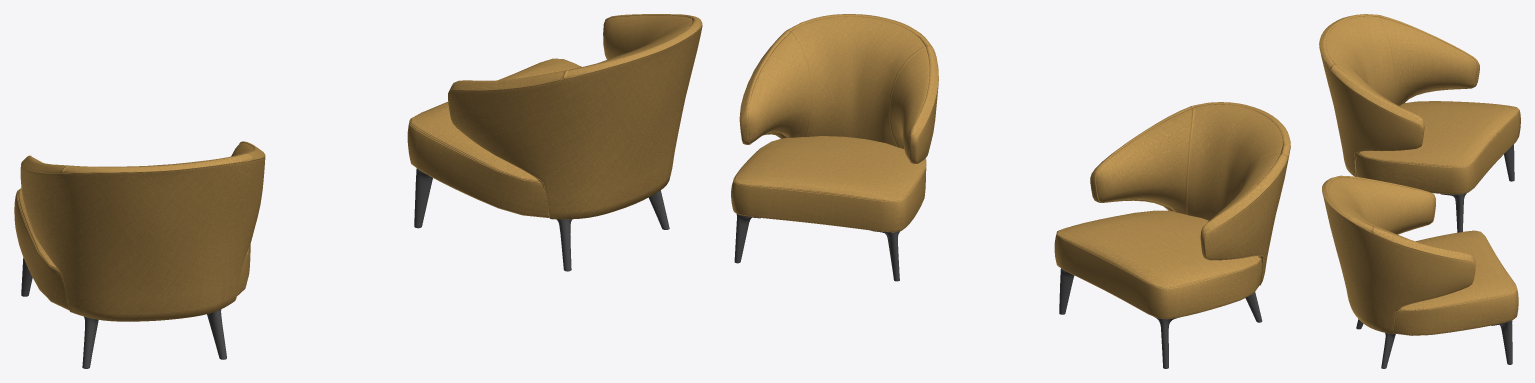
The model's file is Poltrone gialle salotto.glb.
The picture shows the model from 3 angles, left to right: view 1: azimuth 30°, elevation 25°; view 2: azimuth 150°, elevation 25°; view 3: azimuth 270°, elevation 25°; orthographic projection. The views are drawn at different scales.
Visible parts, largest first — view 1: Armchair _02, Armchair _01; view 2: Armchair _02, Armchair _01; view 3: Armchair _01, Armchair _02.
Part boxes in pixels (left/top/right/bottom): Armchair _02: left=407, top=14, right=702, bottom=271; Armchair _01: left=14, top=141, right=265, bottom=368; Armchair _02: left=731, top=14, right=938, bottom=281; Armchair _01: left=1054, top=102, right=1290, bottom=368; Armchair _01: left=1319, top=14, right=1520, bottom=232; Armchair _02: left=1322, top=175, right=1518, bottom=368.
Size of the model in its own units: 2.41 by 0.7991 by 0.9397.
2 materials, 1 textured.
